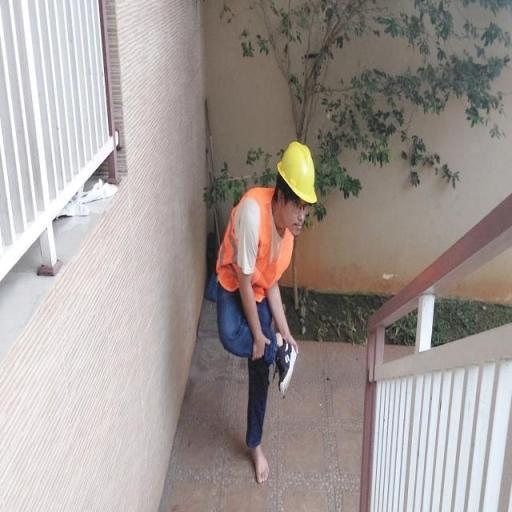Person: (207, 101, 338, 494)
boots: (274, 336, 302, 399)
helmet: (274, 134, 324, 208)
none: (238, 432, 278, 490), (242, 322, 274, 370), (276, 319, 306, 346)
vest: (215, 188, 301, 310)
